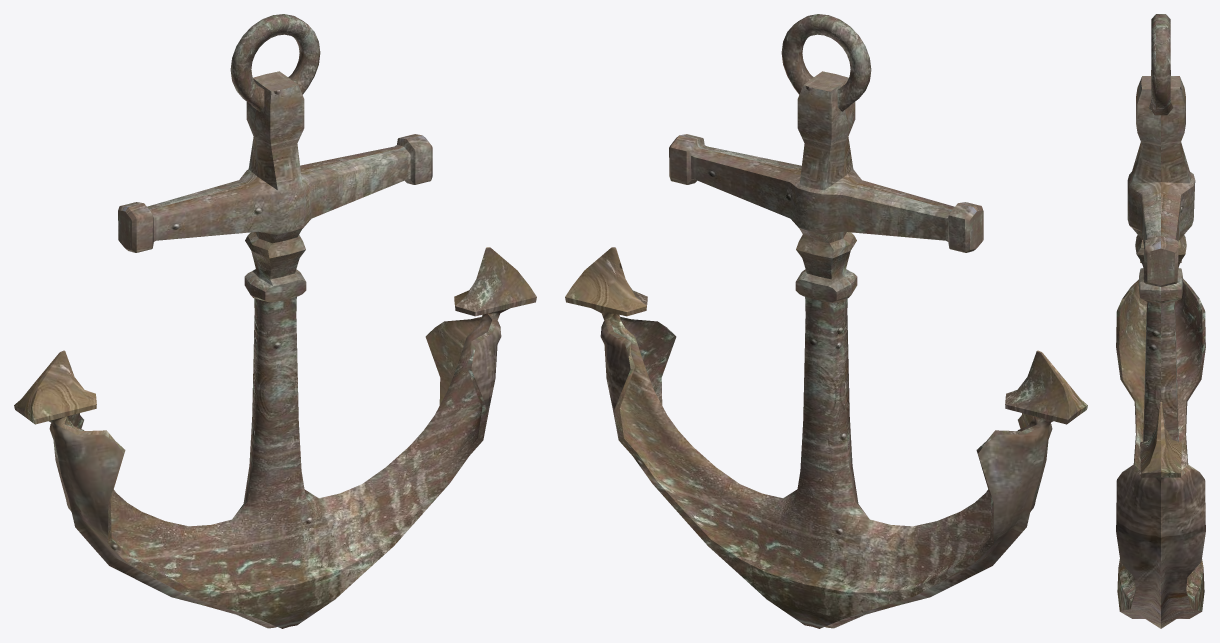
3 renders of one model, left to right at view 1: azimuth 30°, elevation 25°; view 2: azimuth 150°, elevation 25°; view 3: azimuth 270°, elevation 25°, orthographic.
Parts seen in each view (by area): view 1: Anchor1; view 2: Anchor1; view 3: Anchor1.
Boxes of the visible parts, x1,y1,x2,y2 form: Anchor1: [14, 14, 536, 628]; Anchor1: [565, 14, 1087, 628]; Anchor1: [1116, 14, 1205, 628].
Size of the model in its own units: 2.61 by 0.4059 by 3.03.
Materials: 1 (1 with a texture image).
